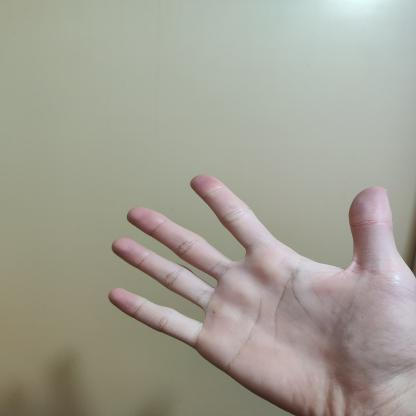bare_hand: (91, 156, 415, 415)
